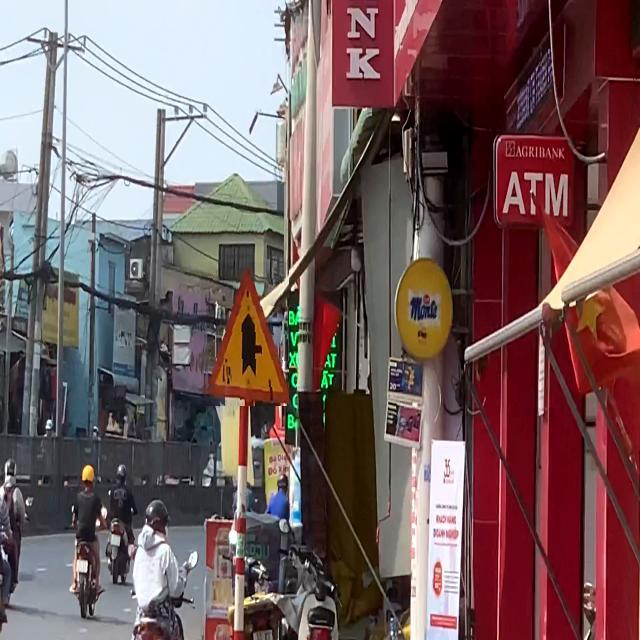W-207b: (201, 262, 289, 406)
